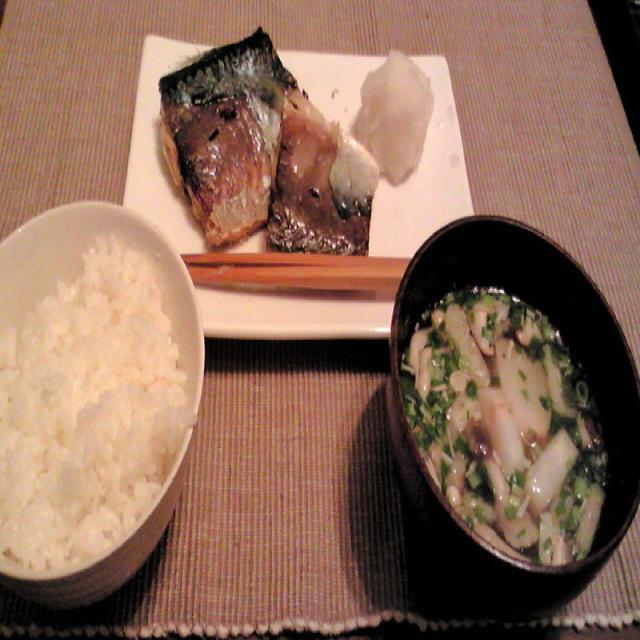Rice: (0, 232, 196, 565)
